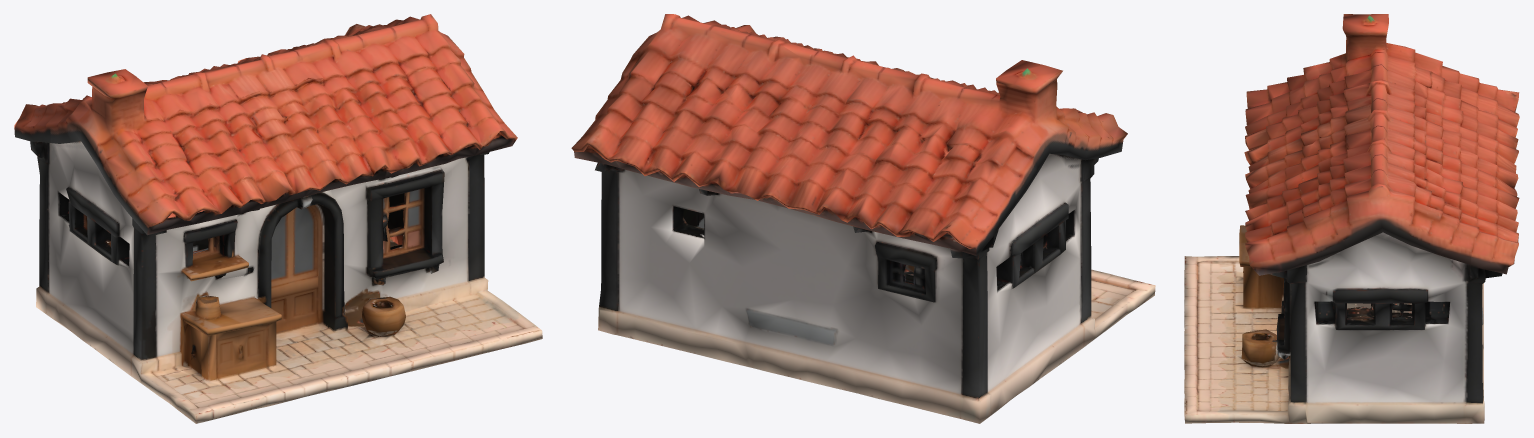
The model's file is trading_house.glb.
The picture shows the model from 3 angles, left to right: view 1: azimuth 30°, elevation 25°; view 2: azimuth 150°, elevation 25°; view 3: azimuth 270°, elevation 25°; orthographic projection. The views are drawn at different scales.
Parts seen in each view (by area): view 1: Mesh1.0; view 2: Mesh1.0; view 3: Mesh1.0.
Part boxes in pixels (<box>): Mesh1.0: <box>14,14,542,423</box>; Mesh1.0: <box>571,14,1155,423</box>; Mesh1.0: <box>1184,14,1519,423</box>.
Size of the model in its own units: 1.91 by 1.37 by 1.61.
Materials: 1 (1 with a texture image).
